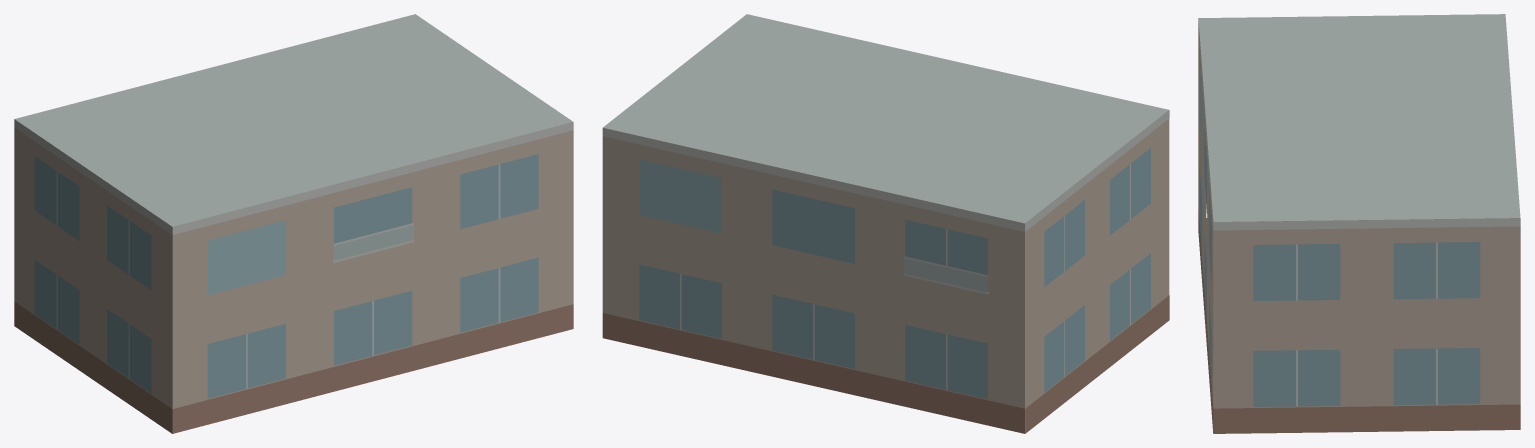
Rendered from survey-upis-32833167.glb.
3 renders of one model, left to right at view 1: azimuth 30°, elevation 25°; view 2: azimuth 150°, elevation 25°; view 3: azimuth 270°, elevation 25°, orthographic. The views are drawn at different scales.
Parts seen in each view (by area): view 1: survey-upis-32833167.tmp; view 2: survey-upis-32833167.tmp; view 3: survey-upis-32833167.tmp.
Boxes of the visible parts, bbox=[...] form: survey-upis-32833167.tmp: bbox=[14, 14, 573, 433]; survey-upis-32833167.tmp: bbox=[602, 14, 1169, 433]; survey-upis-32833167.tmp: bbox=[1198, 14, 1520, 433].
Size of the model in its own units: 12.86 by 6.1 by 8.42.
